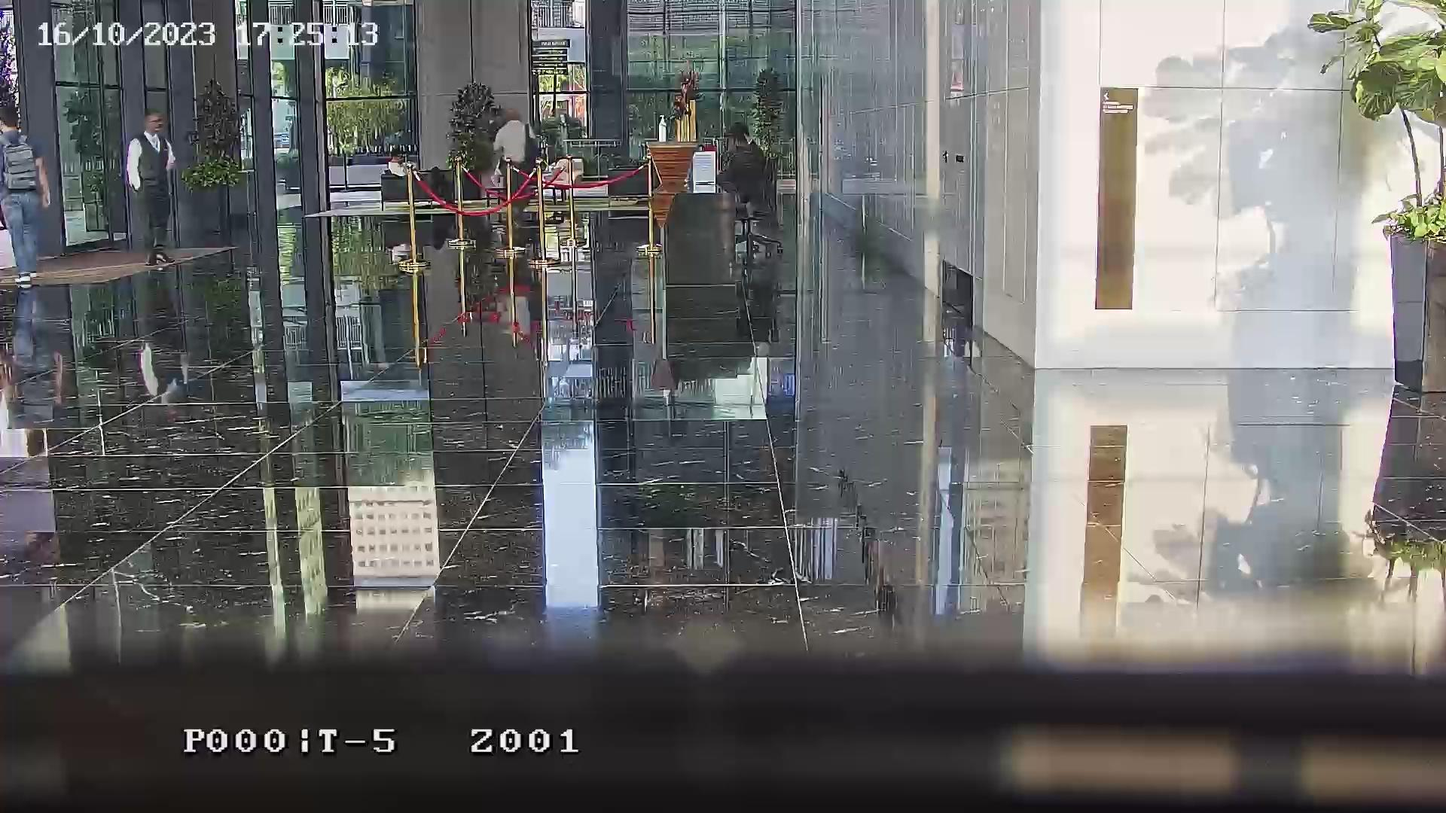person: (0, 105, 51, 287), (124, 111, 179, 264), (491, 110, 537, 233), (716, 126, 764, 204), (387, 146, 409, 177)
